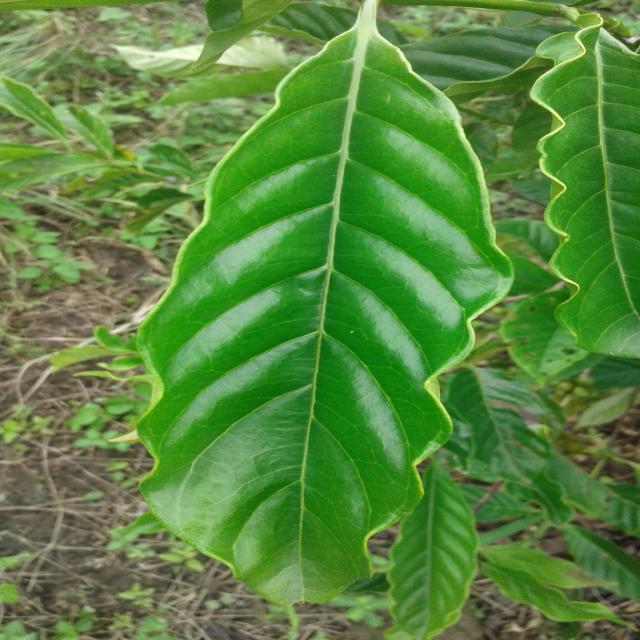Sanas: (132, 0, 514, 640)
